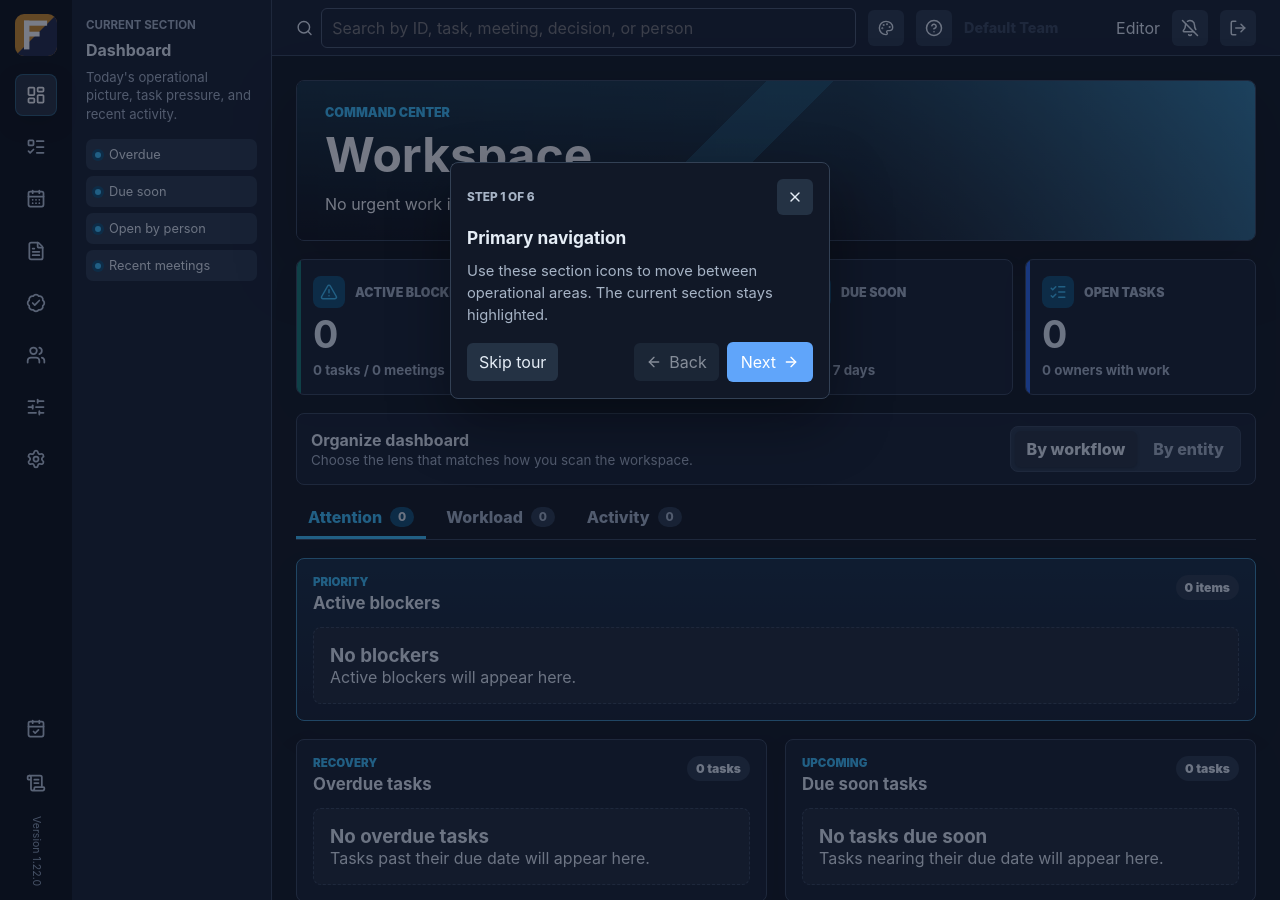
Test case: record pages › leads primary record rows with their public IDs
Click the button named "People" at (36, 355), box [15,334,57,376]
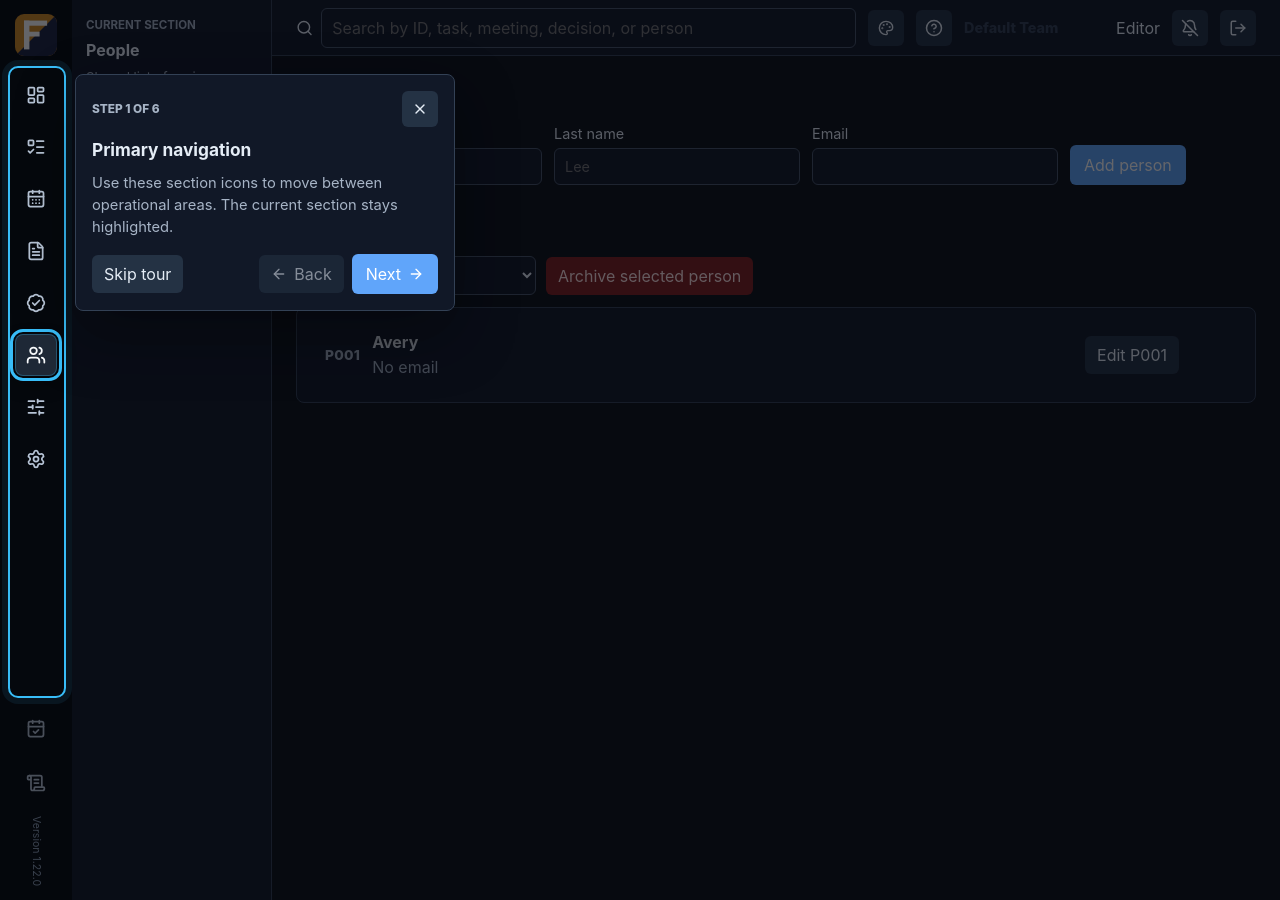
Check: the text "Avery" is shown, box [372,332,418,352]
Click the button named "Tasks" at (36, 147), box [15,126,57,168]
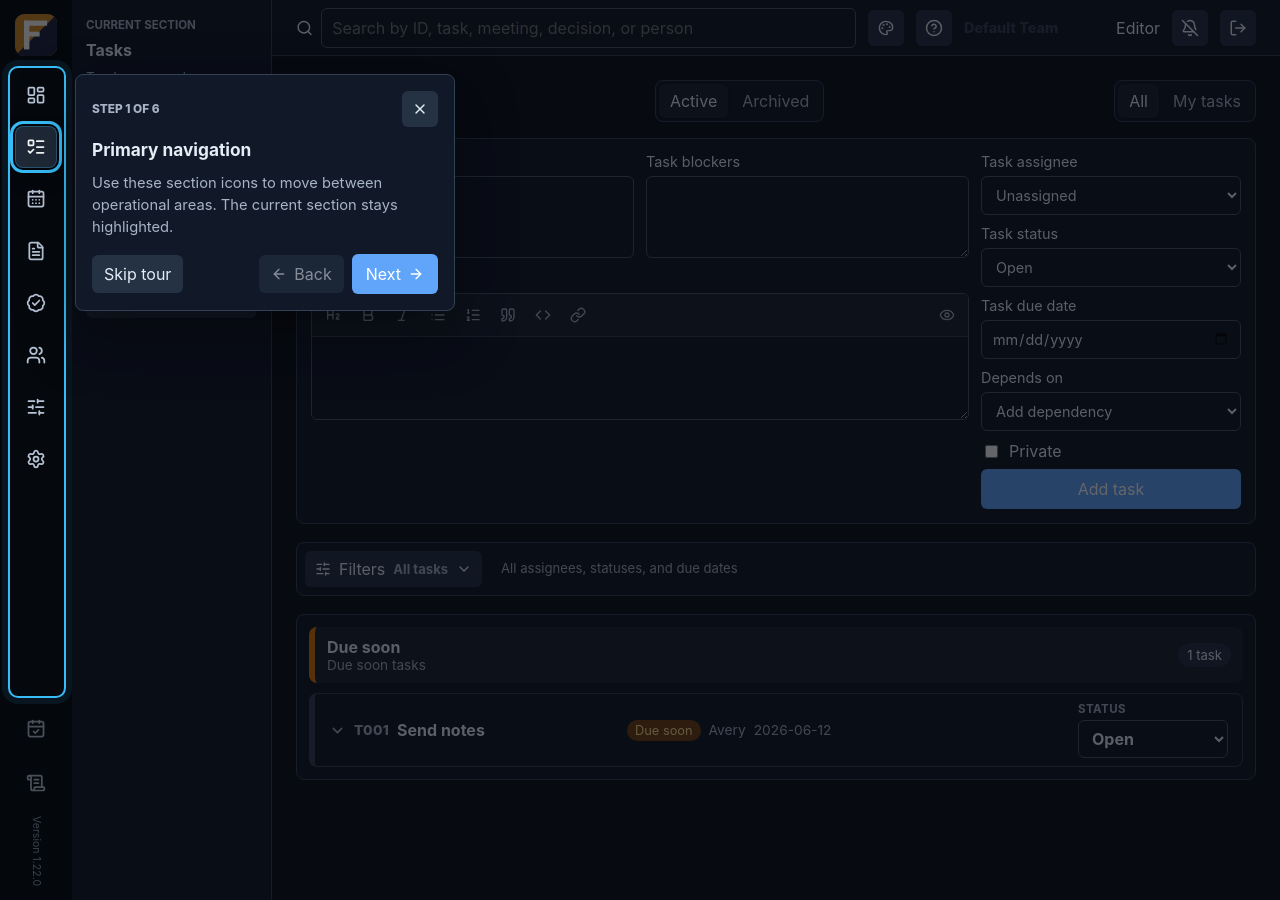
Check: the text "Send notes" is shown, box [397,720,485,740]
Check: the text "Due soon" is shown, box [627,720,700,740]
Click the button named "Meetings" at (36, 199), box [15,178,57,220]
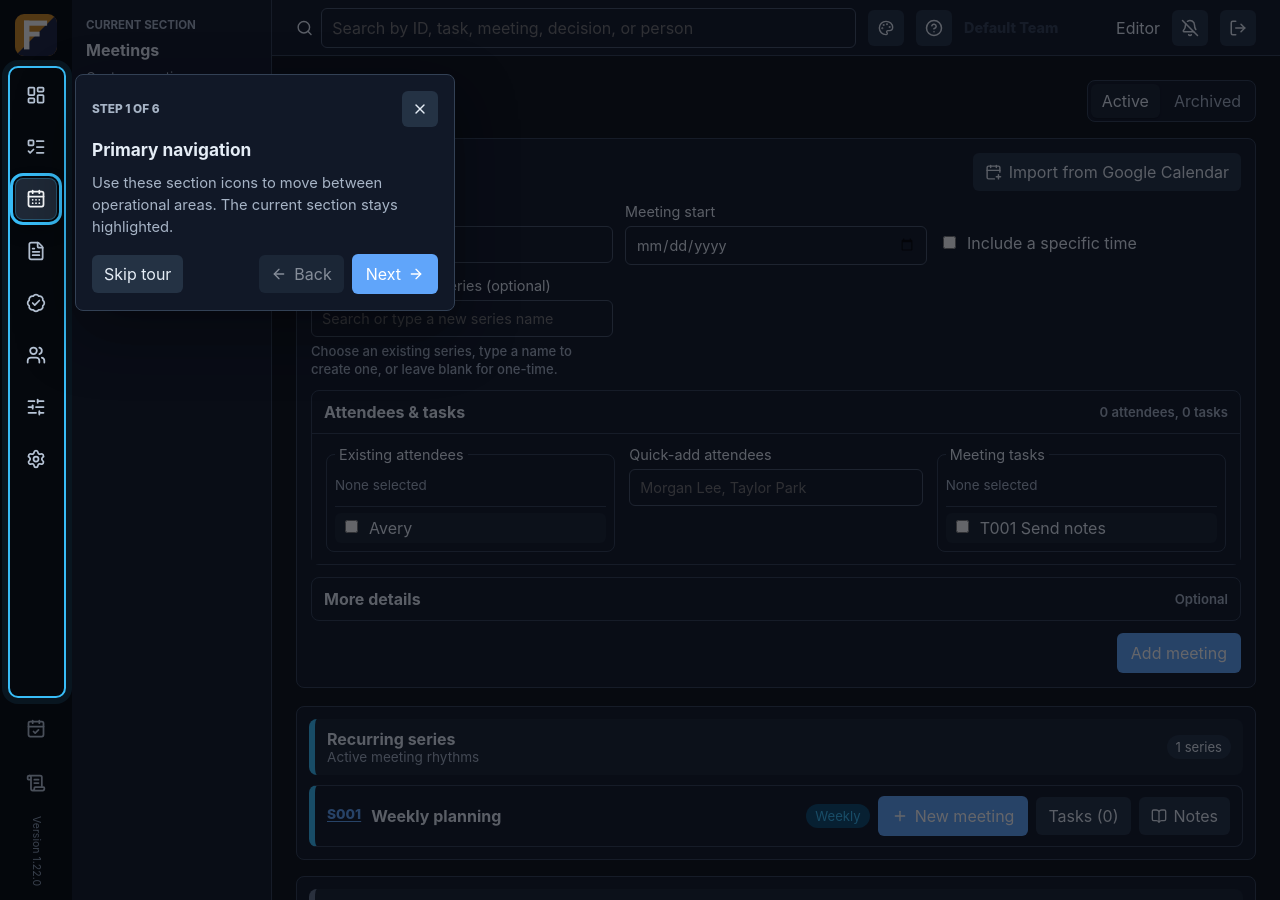
Check: the text "S001" is shown, box [327,806,361,822]
Click the button named "Decisions" at (36, 303), box [15,282,57,324]
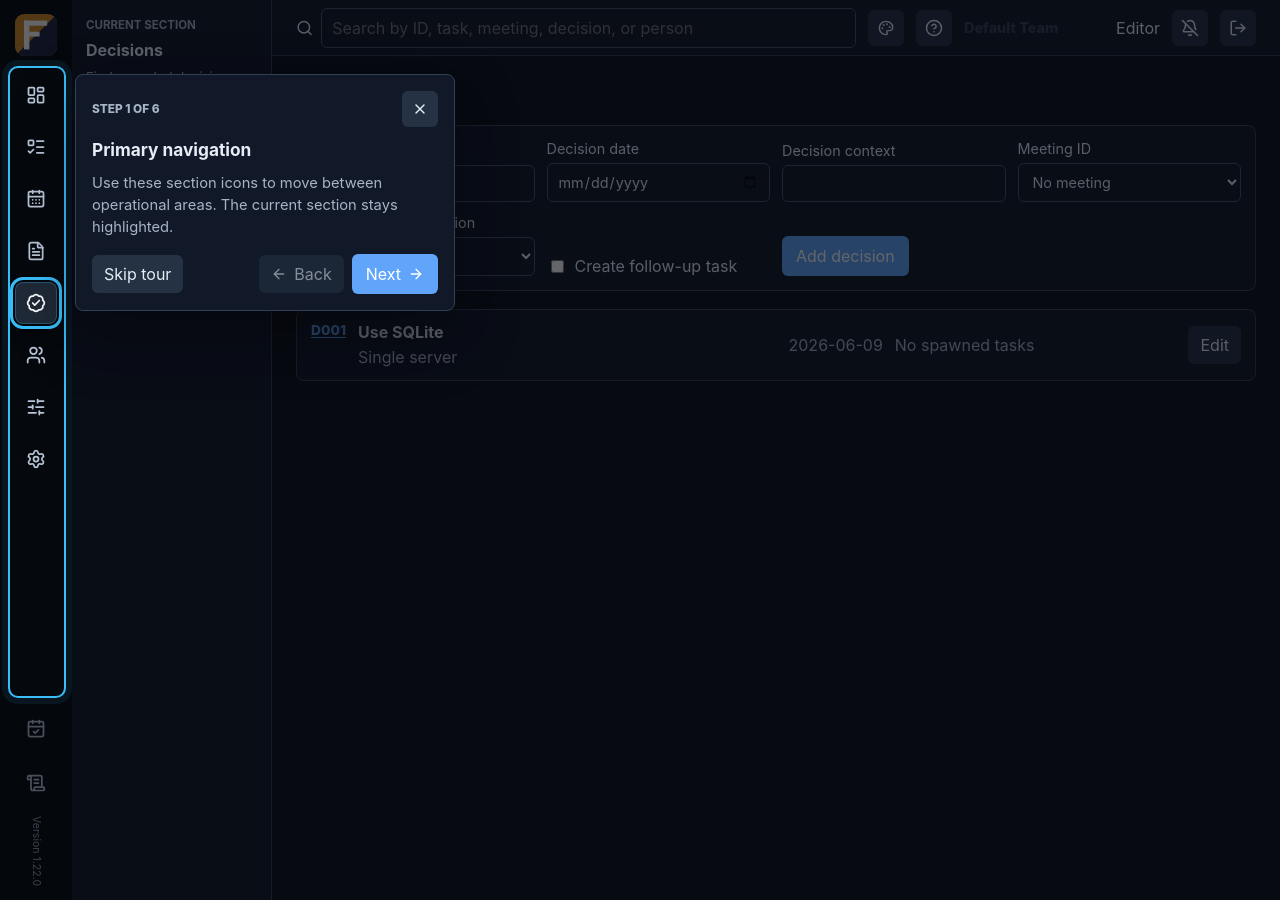
Check: the text "Use SQLite" is shown, box [358,322,444,342]
